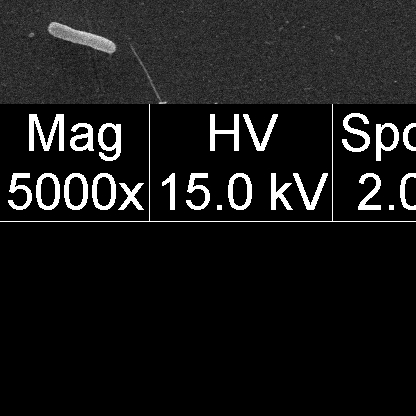cell: (46, 21, 116, 53)
